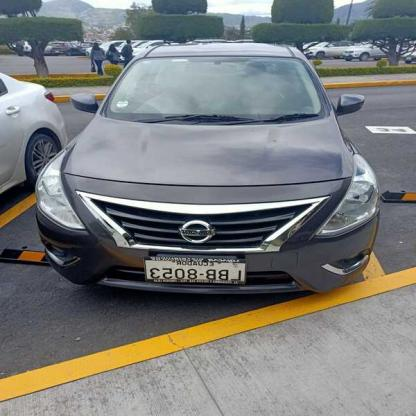Placa: (142, 253, 250, 294)
